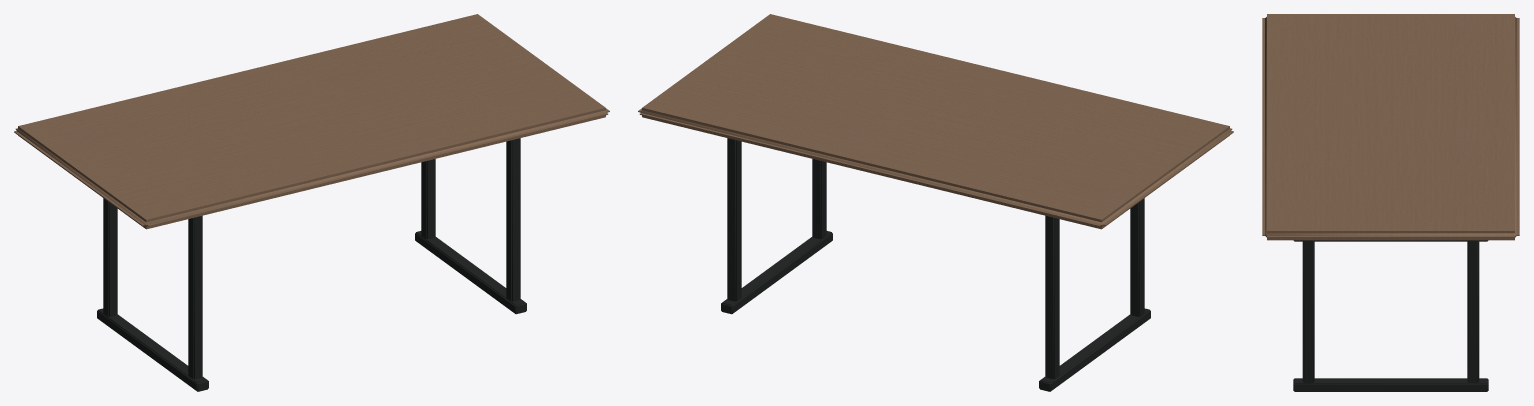
File: industrial.dining_table.gltf
3 views of the same model, side by side, from view 1: azimuth 30°, elevation 25°; view 2: azimuth 150°, elevation 25°; view 3: azimuth 270°, elevation 25° (orthographic). The views are drawn at different scales.
Parts seen in each view (by area): view 1: industrial.dining_table.rounded-top; view 2: industrial.dining_table.rounded-top; view 3: industrial.dining_table.rounded-top.
Part boxes in pixels (x1,y1,x2,y2): industrial.dining_table.rounded-top: (14,14,609,391); industrial.dining_table.rounded-top: (638,14,1233,391); industrial.dining_table.rounded-top: (1262,14,1519,391).
Size of the model in its own units: 1.85 by 0.75 by 0.91.
Materials: 2 (1 with a texture image).
